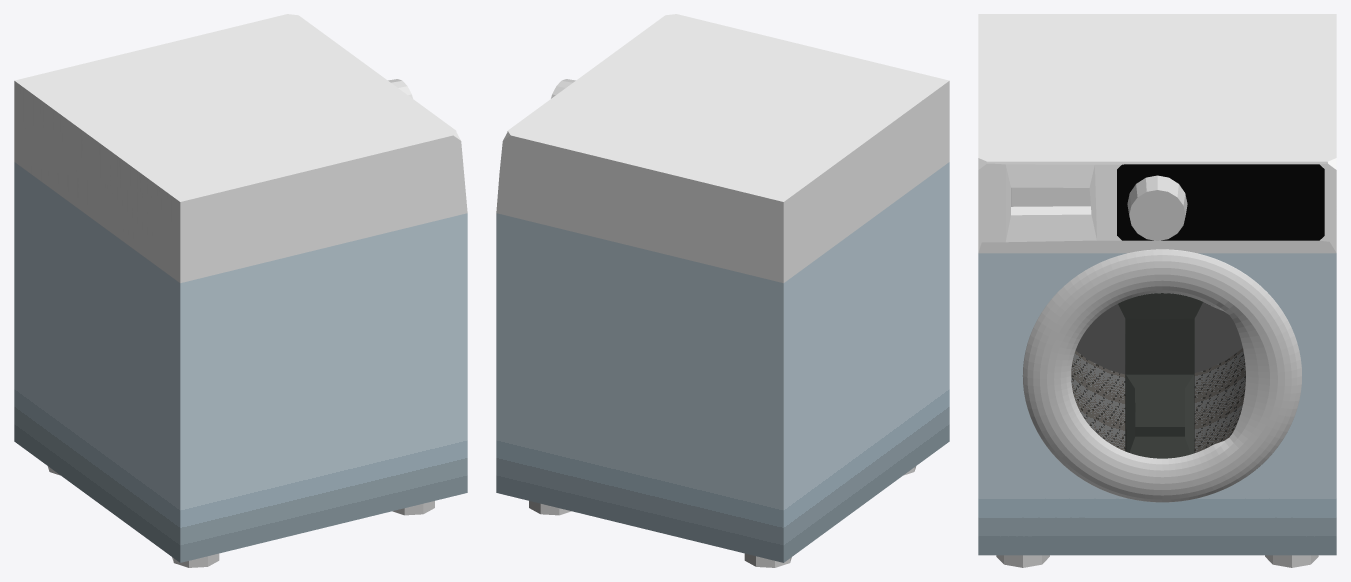
Rendered from washing machine 2.glb.
3 views of the same model, side by side, from view 1: azimuth 30°, elevation 25°; view 2: azimuth 150°, elevation 25°; view 3: azimuth 270°, elevation 25° (orthographic). The views are drawn at different scales.
Visible parts, largest first — view 1: Washing Machine; view 2: Washing Machine; view 3: Washing Machine, Torus, Drum, Drum Washer, Knob, Cylinder, Cylinder.002.
Boxes of the visible parts, x1,y1,x2,y2 form: Washing Machine: (14, 14, 467, 562); Washing Machine: (496, 14, 949, 562); Washing Machine: (978, 14, 1336, 555); Torus: (1022, 249, 1301, 502); Drum: (1071, 302, 1245, 452); Drum Washer: (1118, 293, 1202, 458); Knob: (1127, 175, 1187, 240); Cylinder: (996, 555, 1049, 567); Cylinder.002: (1265, 555, 1318, 567).
Size of the model in its own units: 4.25 by 5.05 by 4.
Materials: 6 (2 with a texture image).
